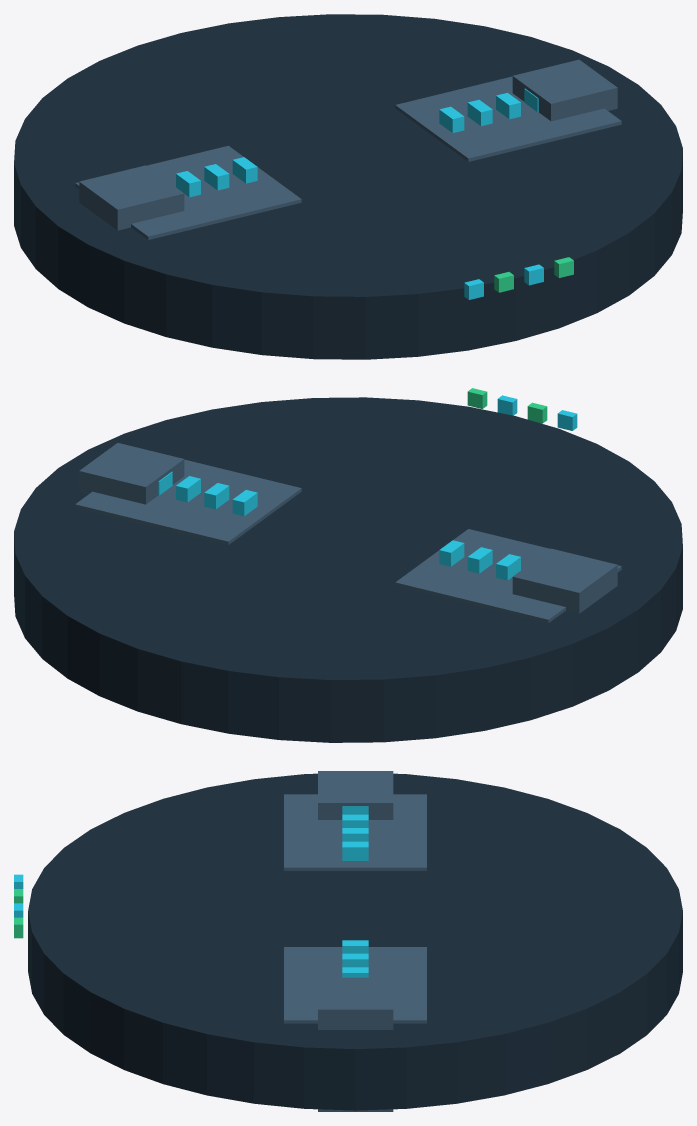
File: 22_L79_TipTiltCompensationPlatform.fbx
The picture shows the model from 3 angles, top to bottom: view 1: azimuth 30°, elevation 25°; view 2: azimuth 150°, elevation 25°; view 3: azimuth 270°, elevation 25°; orthographic projection. The views are drawn at different scales.
Parts seen in each view (by area): view 1: TipTiltCompensationPlatform, TipTiltCompensationPlatform_Part_0013, TipTiltCompensationPlatform_Part_0007, TipTiltCompensationPlatform_Part_0015, TipTiltCompensationPlatform_Part_0011, TipTiltCompensationPlatform_Part_0014, TipTiltCompensationPlatform_Part_0012; view 2: TipTiltCompensationPlatform, TipTiltCompensationPlatform_Part_0013, TipTiltCompensationPlatform_Part_0007, TipTiltCompensationPlatform_Part_0014, TipTiltCompensationPlatform_Part_0015; view 3: TipTiltCompensationPlatform, TipTiltCompensationPlatform_Part_0007, TipTiltCompensationPlatform_Part_0013, TipTiltCompensationPlatform_Part_0012.
Boxes of the visible parts, box(x1,y1,x2,y2) form: TipTiltCompensationPlatform: box(14, 14, 682, 359); TipTiltCompensationPlatform_Part_0013: box(395, 76, 621, 161); TipTiltCompensationPlatform_Part_0007: box(75, 145, 301, 239); TipTiltCompensationPlatform_Part_0015: box(467, 99, 492, 126); TipTiltCompensationPlatform_Part_0011: box(204, 164, 229, 190); TipTiltCompensationPlatform_Part_0014: box(439, 106, 464, 132); TipTiltCompensationPlatform_Part_0012: box(232, 157, 257, 183); TipTiltCompensationPlatform: box(14, 388, 682, 742); TipTiltCompensationPlatform_Part_0013: box(75, 459, 301, 544); TipTiltCompensationPlatform_Part_0007: box(395, 529, 621, 623); TipTiltCompensationPlatform_Part_0014: box(232, 490, 257, 516); TipTiltCompensationPlatform_Part_0015: box(204, 483, 229, 509); TipTiltCompensationPlatform: box(14, 771, 682, 1111); TipTiltCompensationPlatform_Part_0007: box(284, 794, 426, 870); TipTiltCompensationPlatform_Part_0013: box(284, 947, 426, 1023); TipTiltCompensationPlatform_Part_0012: box(342, 841, 368, 860).
Size of the model in its own units: 174 by 30 by 178.
